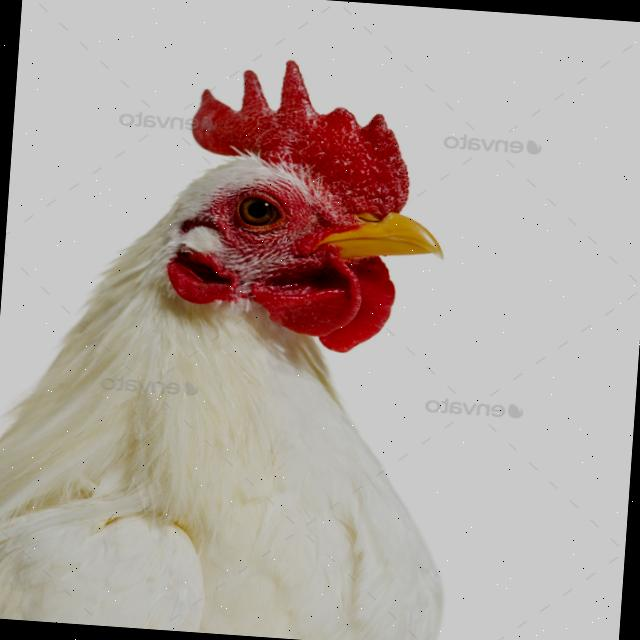Healthy: (0, 39, 484, 640)
